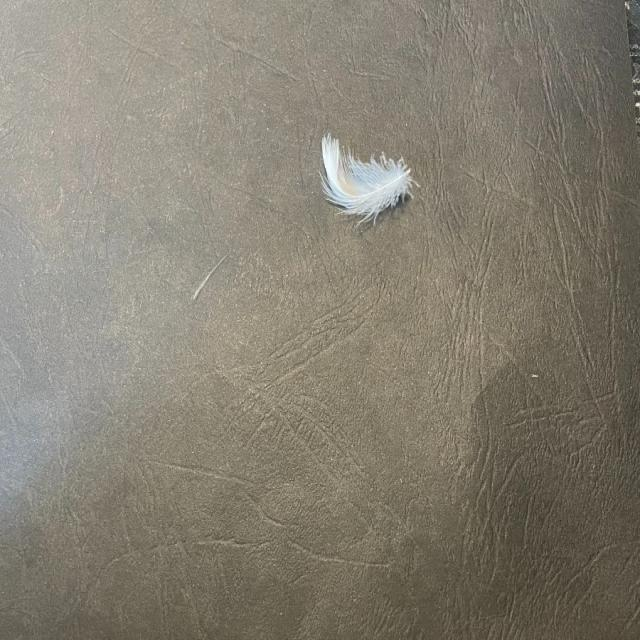feather: (314, 131, 419, 224)
